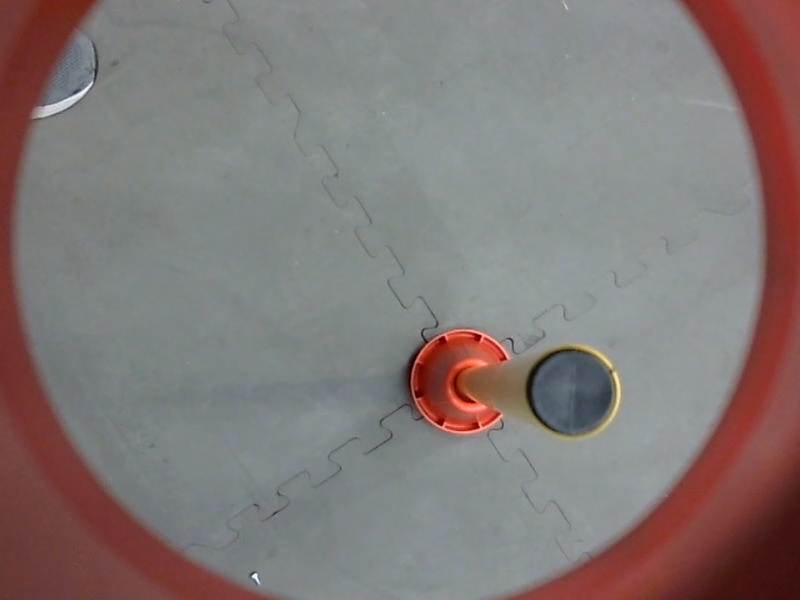tip: (521, 334, 626, 448)
